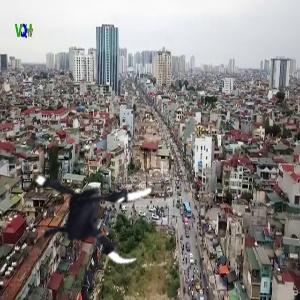drone: (14, 139, 161, 286)
